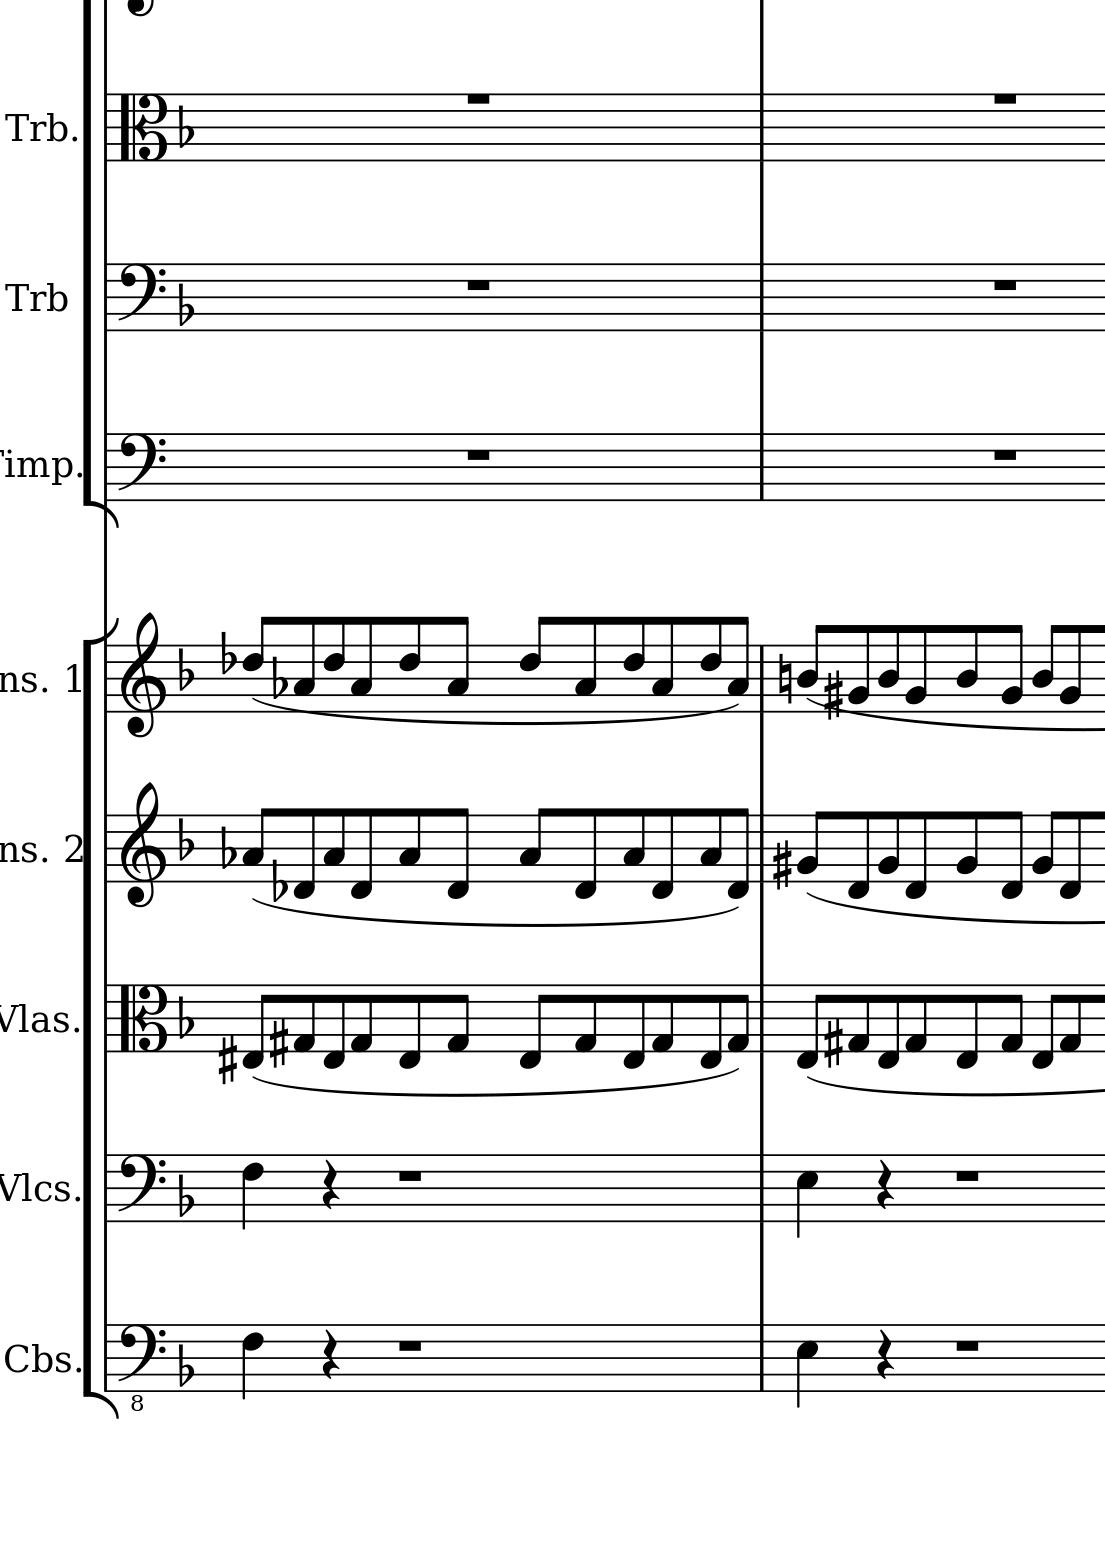4_5: (794, 1152, 819, 1240), (794, 1321, 818, 1410)
4_6: (239, 1321, 265, 1402), (239, 1153, 265, 1231)
8_-1: (515, 981, 550, 1073), (793, 982, 826, 1071), (240, 982, 273, 1070), (1028, 982, 1060, 1071), (570, 806, 599, 903), (444, 805, 471, 902), (348, 806, 376, 902), (724, 806, 751, 900), (289, 806, 316, 900), (997, 808, 1024, 902), (1057, 808, 1083, 902), (651, 806, 676, 903), (844, 808, 871, 900), (903, 808, 929, 900), (953, 982, 979, 1071), (396, 983, 422, 1071), (619, 982, 646, 1070), (320, 982, 346, 1070), (697, 982, 722, 1070), (877, 983, 899, 1070)
8_1: (570, 982, 598, 1054), (444, 983, 470, 1055), (725, 983, 751, 1055), (999, 982, 1024, 1055), (349, 982, 374, 1054), (845, 982, 871, 1054), (903, 983, 928, 1055), (291, 983, 316, 1054), (1058, 983, 1082, 1056), (651, 983, 674, 1054)
8_2: (902, 623, 929, 714), (795, 808, 828, 884), (845, 623, 871, 713), (1058, 623, 1083, 713), (1030, 808, 1060, 883), (999, 623, 1022, 714), (953, 808, 979, 884), (875, 808, 901, 883)
8_3: (570, 613, 599, 715), (291, 613, 319, 714), (444, 613, 471, 715), (348, 613, 376, 714), (649, 613, 676, 716), (724, 613, 750, 716), (517, 806, 550, 885), (240, 806, 273, 884), (619, 806, 647, 884), (396, 806, 422, 885), (320, 805, 347, 883), (697, 806, 724, 884)
8_4: (795, 623, 828, 712), (1030, 622, 1061, 712), (953, 623, 979, 716), (875, 622, 901, 713)
8_6: (515, 613, 550, 713), (239, 613, 271, 712), (395, 613, 423, 714), (696, 613, 724, 715), (619, 613, 646, 713), (320, 613, 344, 712)
Bracke: (80, 615, 120, 1418)
Cclef: (116, 982, 170, 1054), (116, 91, 167, 161)
Fclef: (115, 1152, 166, 1226), (116, 431, 166, 505), (116, 261, 166, 334)
Flat: (173, 104, 200, 153), (175, 993, 199, 1042), (175, 280, 197, 329), (173, 646, 195, 694), (175, 814, 196, 861), (215, 823, 236, 871), (216, 628, 237, 674), (176, 1342, 195, 1390), (269, 654, 288, 701), (176, 1172, 195, 1219), (269, 857, 287, 903)
Gclef: (117, 611, 167, 740), (118, 780, 166, 909)
Lower_Fclef: (116, 1321, 167, 1414)
Natural: (774, 651, 793, 706)
Ob: (4, 1338, 51, 1378)
Rests1: (988, 88, 1021, 109), (462, 88, 494, 109), (462, 444, 494, 464), (462, 275, 494, 294), (989, 275, 1021, 294), (950, 1336, 982, 1355), (989, 445, 1020, 464), (393, 1336, 425, 1355), (393, 1167, 425, 1184), (952, 1167, 982, 1184)
Rests4: (873, 1158, 895, 1213), (873, 1327, 895, 1382), (319, 1158, 340, 1213), (319, 1327, 340, 1382)
Sharp: (768, 837, 794, 891), (215, 1033, 238, 1086), (268, 1016, 289, 1070), (822, 1016, 842, 1070), (823, 671, 842, 724)
Single_barline: (97, 985, 118, 1054), (751, 264, 773, 331), (97, 94, 117, 161), (751, 94, 771, 161), (751, 1325, 771, 1391), (752, 433, 771, 501), (752, 985, 771, 1054), (752, 1154, 771, 1222), (752, 645, 770, 713), (751, 814, 769, 883), (98, 816, 116, 883), (98, 1155, 116, 1222), (99, 645, 116, 713), (98, 264, 115, 331), (98, 1326, 115, 1392), (98, 434, 114, 502)
Slur: (251, 898, 741, 929), (254, 696, 735, 727), (252, 1075, 734, 1098)
Trb: (2, 104, 69, 146), (2, 274, 67, 317)
Vla: (1, 997, 51, 1040)
Vlc: (1, 1165, 51, 1209)
